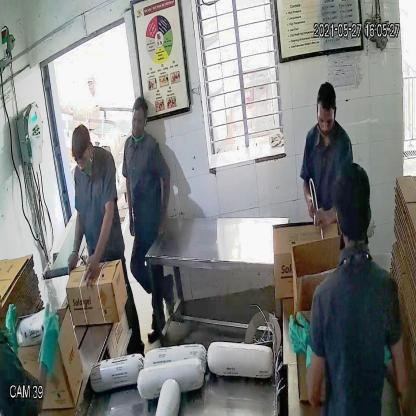no_goggles: (314, 108, 338, 131), (72, 153, 98, 173)
